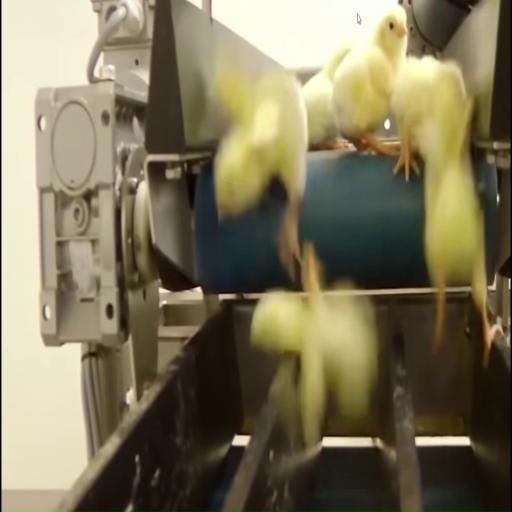chick: (251, 244, 377, 447), (425, 97, 502, 367), (215, 73, 307, 279), (303, 244, 377, 418), (334, 6, 407, 155), (391, 56, 466, 180), (303, 44, 351, 149)
